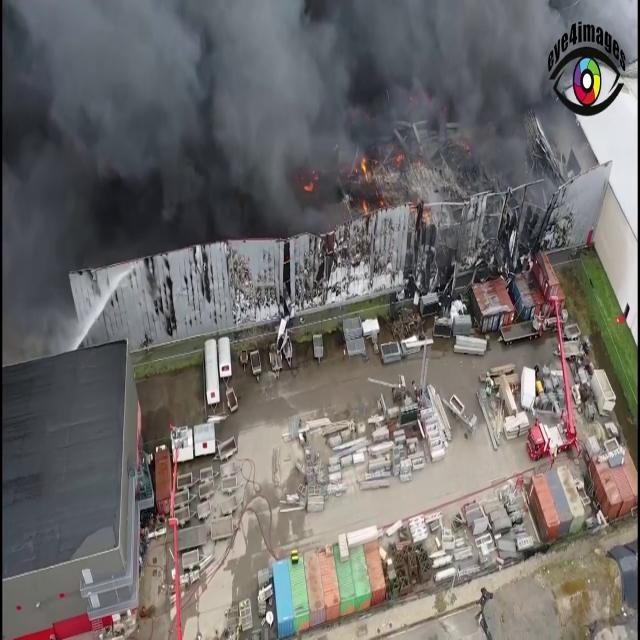Smoke: (2, 0, 342, 264), (353, 0, 554, 199)
